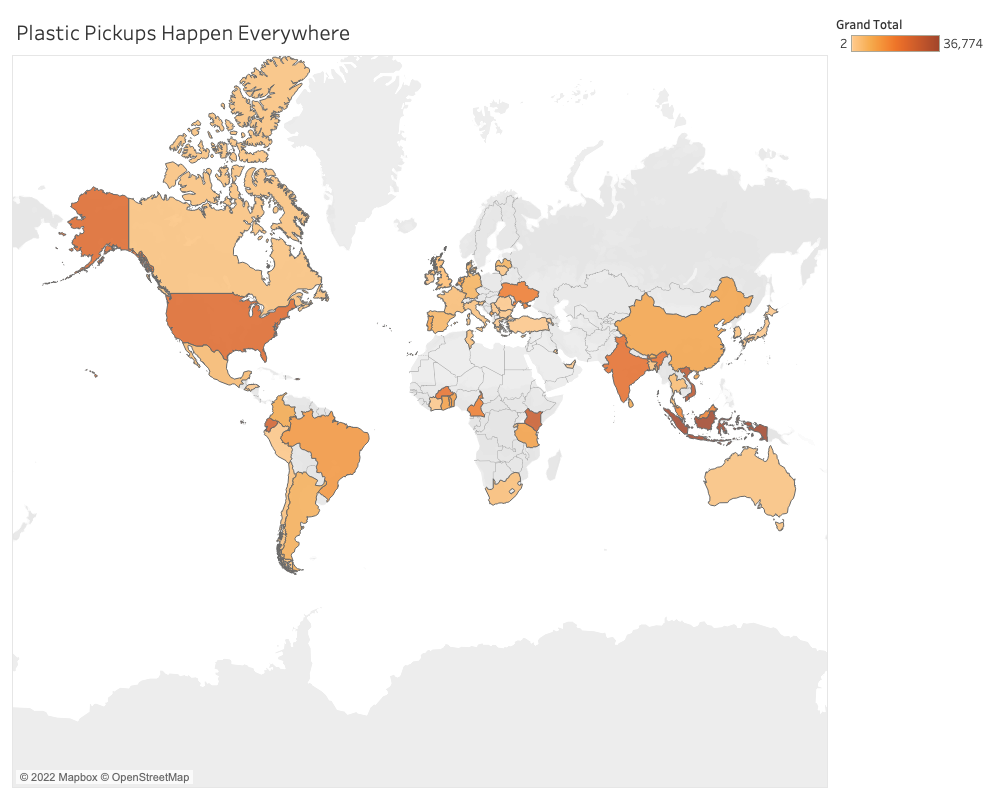

What the dashboard file says about the page in this screenshot:
{"tool":"tableau","page":{"name":"Dashboard 5","canvas":[1000,800],"ordinal":3},"visuals":[{"type":"worksheet","title":"Map (Lower)","mark":"Automatic","box":[8,8,824,784]},{"type":"legend","title":"Map (Lower)","param":"[federated.0bekhf81d466km1bd868x01l75tm].[sum:grand_total:qk]","box":[832,8,160,65]}]}

Visuals, with their boxes in screenshot pixels (x1, y1, x2, y2), scaled from the page's 1000x800 canvas onto the 1000x800 screenshot:
"Map (Lower)" worksheet: <bbox>8, 8, 832, 792</bbox>
"Map (Lower)" legend: <bbox>832, 8, 992, 73</bbox>
